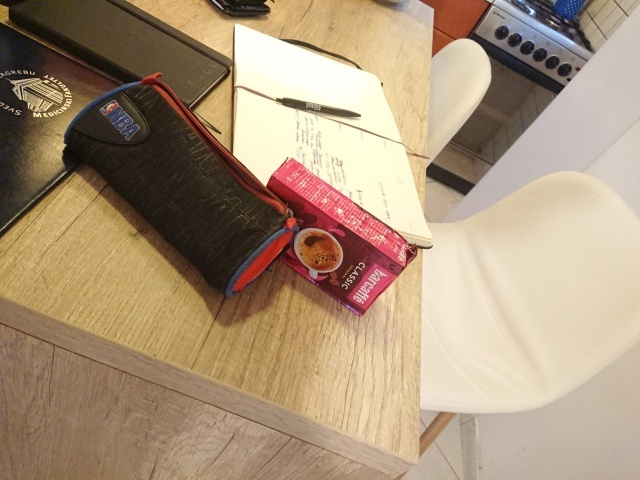Barcaffe Classic Original 225g: (250, 155, 422, 321)
